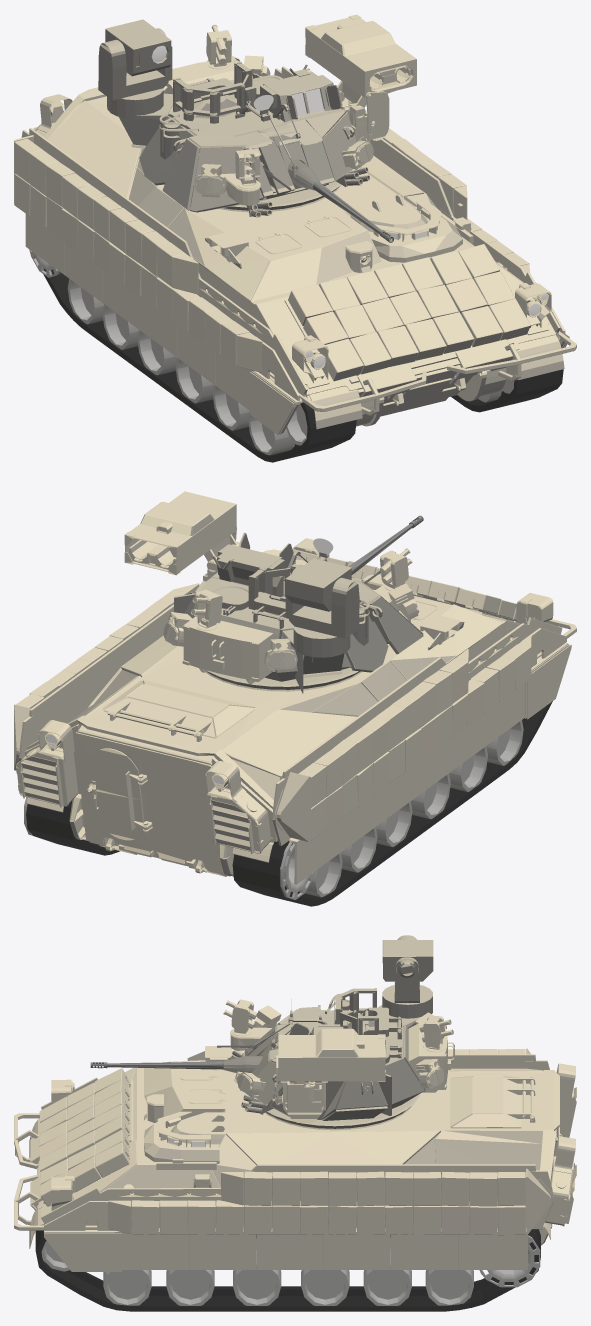
Rendered from vehicle.glb.
3 renders of one model, top to bottom at view 1: azimuth 30°, elevation 25°; view 2: azimuth 150°, elevation 25°; view 3: azimuth 270°, elevation 25°, orthographic. The views are drawn at different scales.
Visible parts, largest first — view 1: g0000 Chassis, g0005 Tourelle_01, g0011 Axe_Canon_02, g0010 Fist, g0012 Chenille_Droite_01, g0013 Chenille_Gauche_01, g0006 Axe_Canon_01, g0017 Roue_D5, g0016 Roue_D4, g0014 Roue_D2, g0015 Roue_D3, g0005_lamp_lens lamp_lens (+4 smaller); view 2: g0000 Chassis, g0005 Tourelle_01, g0010 Fist, g0011 Axe_Canon_02, g0012 Chenille_Droite_01, g0013 Chenille_Gauche_01, g0016 Roue_D4, g0015 Roue_D3, g0014 Roue_D2, g0018 Roue_D6, g0017 Roue_D5, g0002 Roue_D8 (+2 smaller); view 3: g0000 Chassis, g0005 Tourelle_01, g0013 Chenille_Gauche_01, g0011 Axe_Canon_02, g0010 Fist, g0022 Roue_G4, g0024 Roue_G6, g0021 Roue_G3, g0023 Roue_G5, g0025 Roue_G7, g0020 Roue_G2, g0004 Roue_G8 (+2 smaller).
Boxes of the visible parts, x1,y1,x2,y2 form: g0000 Chassis: [14, 56, 576, 434]; g0005 Tourelle_01: [98, 19, 370, 217]; g0011 Axe_Canon_02: [305, 14, 416, 142]; g0010 Fist: [163, 24, 373, 205]; g0012 Chenille_Droite_01: [36, 259, 356, 462]; g0013 Chenille_Gauche_01: [451, 369, 563, 412]; g0006 Axe_Canon_01: [269, 137, 320, 190]; g0017 Roue_D5: [137, 330, 176, 375]; g0016 Roue_D4: [175, 358, 214, 403]; g0014 Roue_D2: [248, 411, 295, 455]; g0015 Roue_D3: [212, 385, 249, 430]; g0005_lamp_lens lamp_lens: [151, 45, 323, 115]; g0000 Chassis: [14, 538, 576, 884]; g0005 Tourelle_01: [174, 532, 423, 693]; g0010 Fist: [163, 548, 419, 684]; g0011 Axe_Canon_02: [124, 491, 239, 581]; g0012 Chenille_Droite_01: [232, 701, 552, 906]; g0013 Chenille_Gauche_01: [26, 800, 119, 855]; g0016 Roue_D4: [411, 773, 450, 819]; g0015 Roue_D3: [449, 746, 487, 791]; g0014 Roue_D2: [486, 720, 523, 765]; g0018 Roue_D6: [341, 827, 377, 872]; g0017 Roue_D5: [376, 801, 412, 846]; g0002 Roue_D8: [280, 842, 315, 899]; g0000 Chassis: [14, 1046, 576, 1271]; g0005 Tourelle_01: [229, 935, 433, 1130]; g0013 Chenille_Gauche_01: [35, 1229, 540, 1311]; g0011 Axe_Canon_02: [272, 1028, 385, 1122]; g0010 Fist: [223, 999, 454, 1098]; g0022 Roue_G4: [233, 1250, 281, 1305]; g0024 Roue_G6: [363, 1251, 411, 1305]; g0021 Roue_G3: [166, 1270, 214, 1305]; g0023 Roue_G5: [301, 1270, 349, 1305]; g0025 Roue_G7: [425, 1270, 473, 1305]; g0020 Roue_G2: [103, 1270, 151, 1305]; g0004 Roue_G8: [479, 1235, 540, 1287].
Size of the model in its own units: 3.68 by 3.56 by 6.75.
